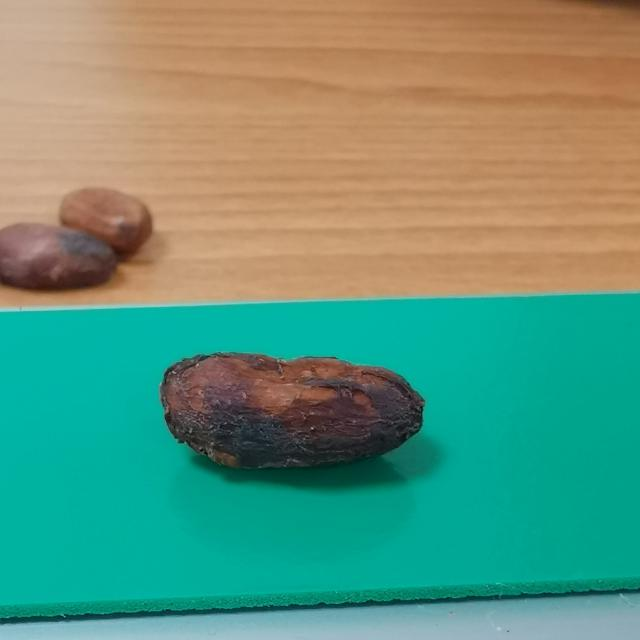Fine_cocoabeans: (48, 297, 554, 537)
